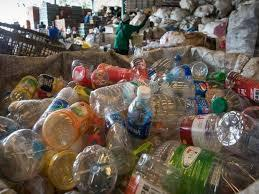Plastic bottle: (4, 99, 125, 190), (159, 140, 241, 189), (160, 108, 229, 146)
